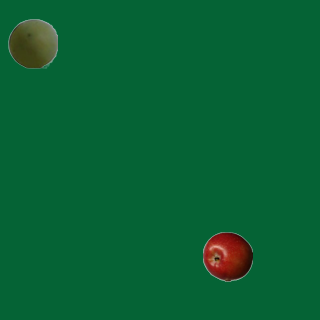Apple Braeburn: (202, 231, 252, 281)
Grape White 4: (7, 18, 57, 68)
